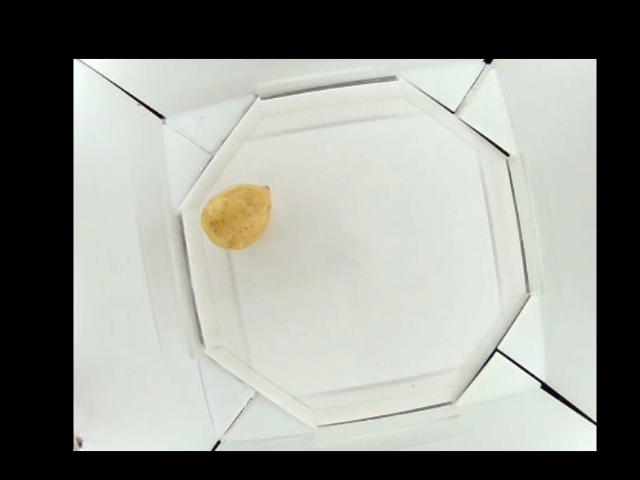Potato: (200, 183, 271, 251)
